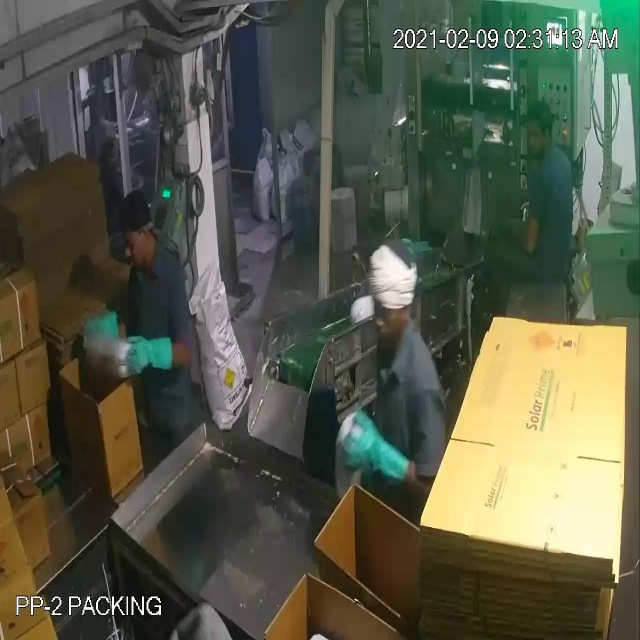Guantes: (333, 410, 420, 495), (111, 308, 183, 389)
